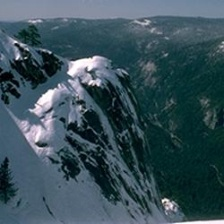neutral: (3, 1, 223, 222)
